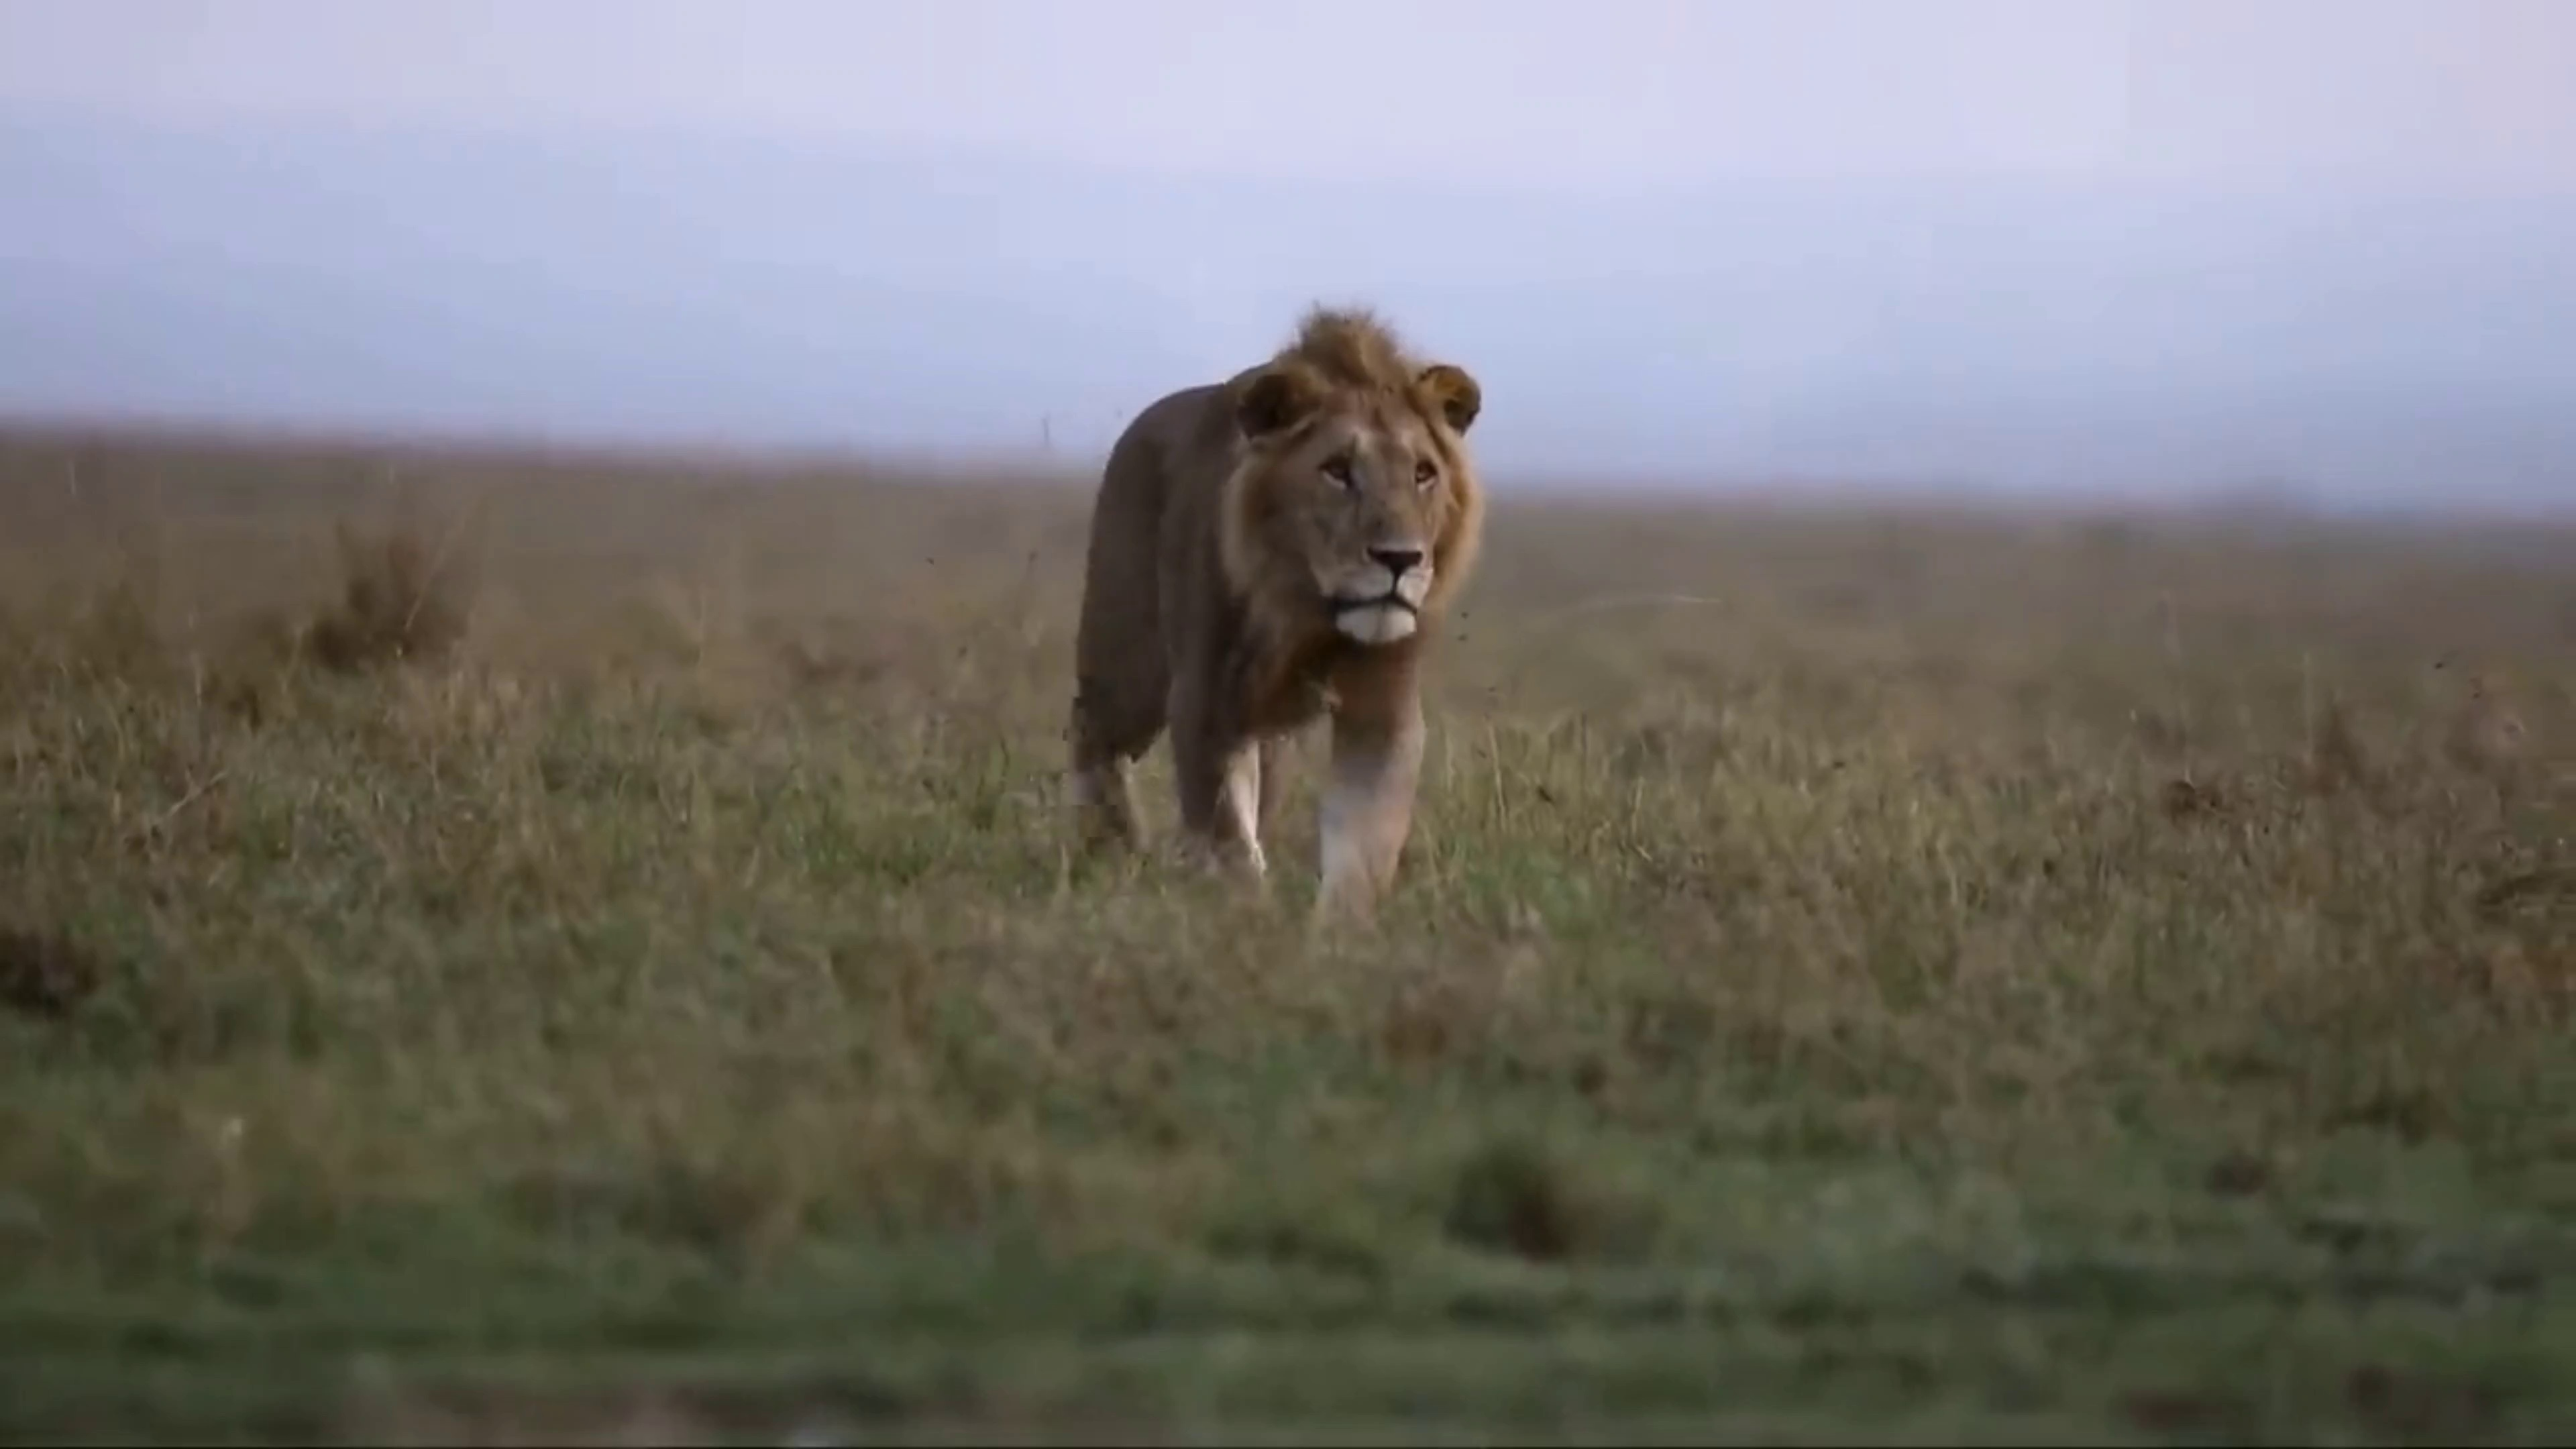Lion: (1067, 297, 1483, 922)
